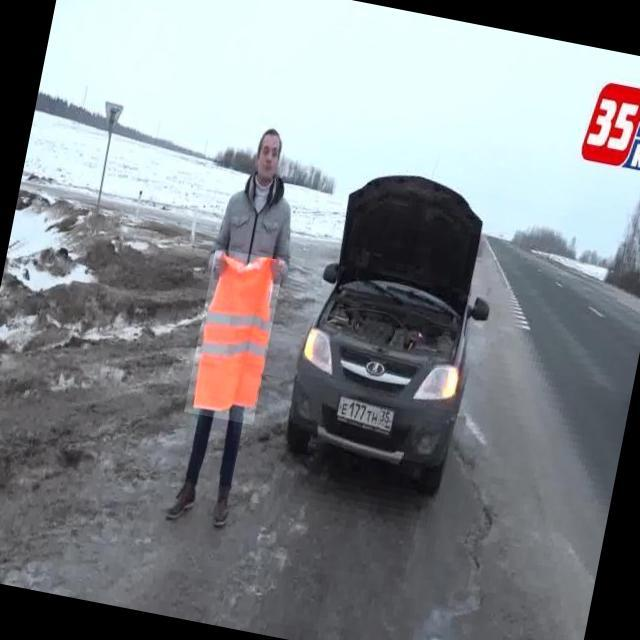Safety Vest: (184, 249, 285, 427)
